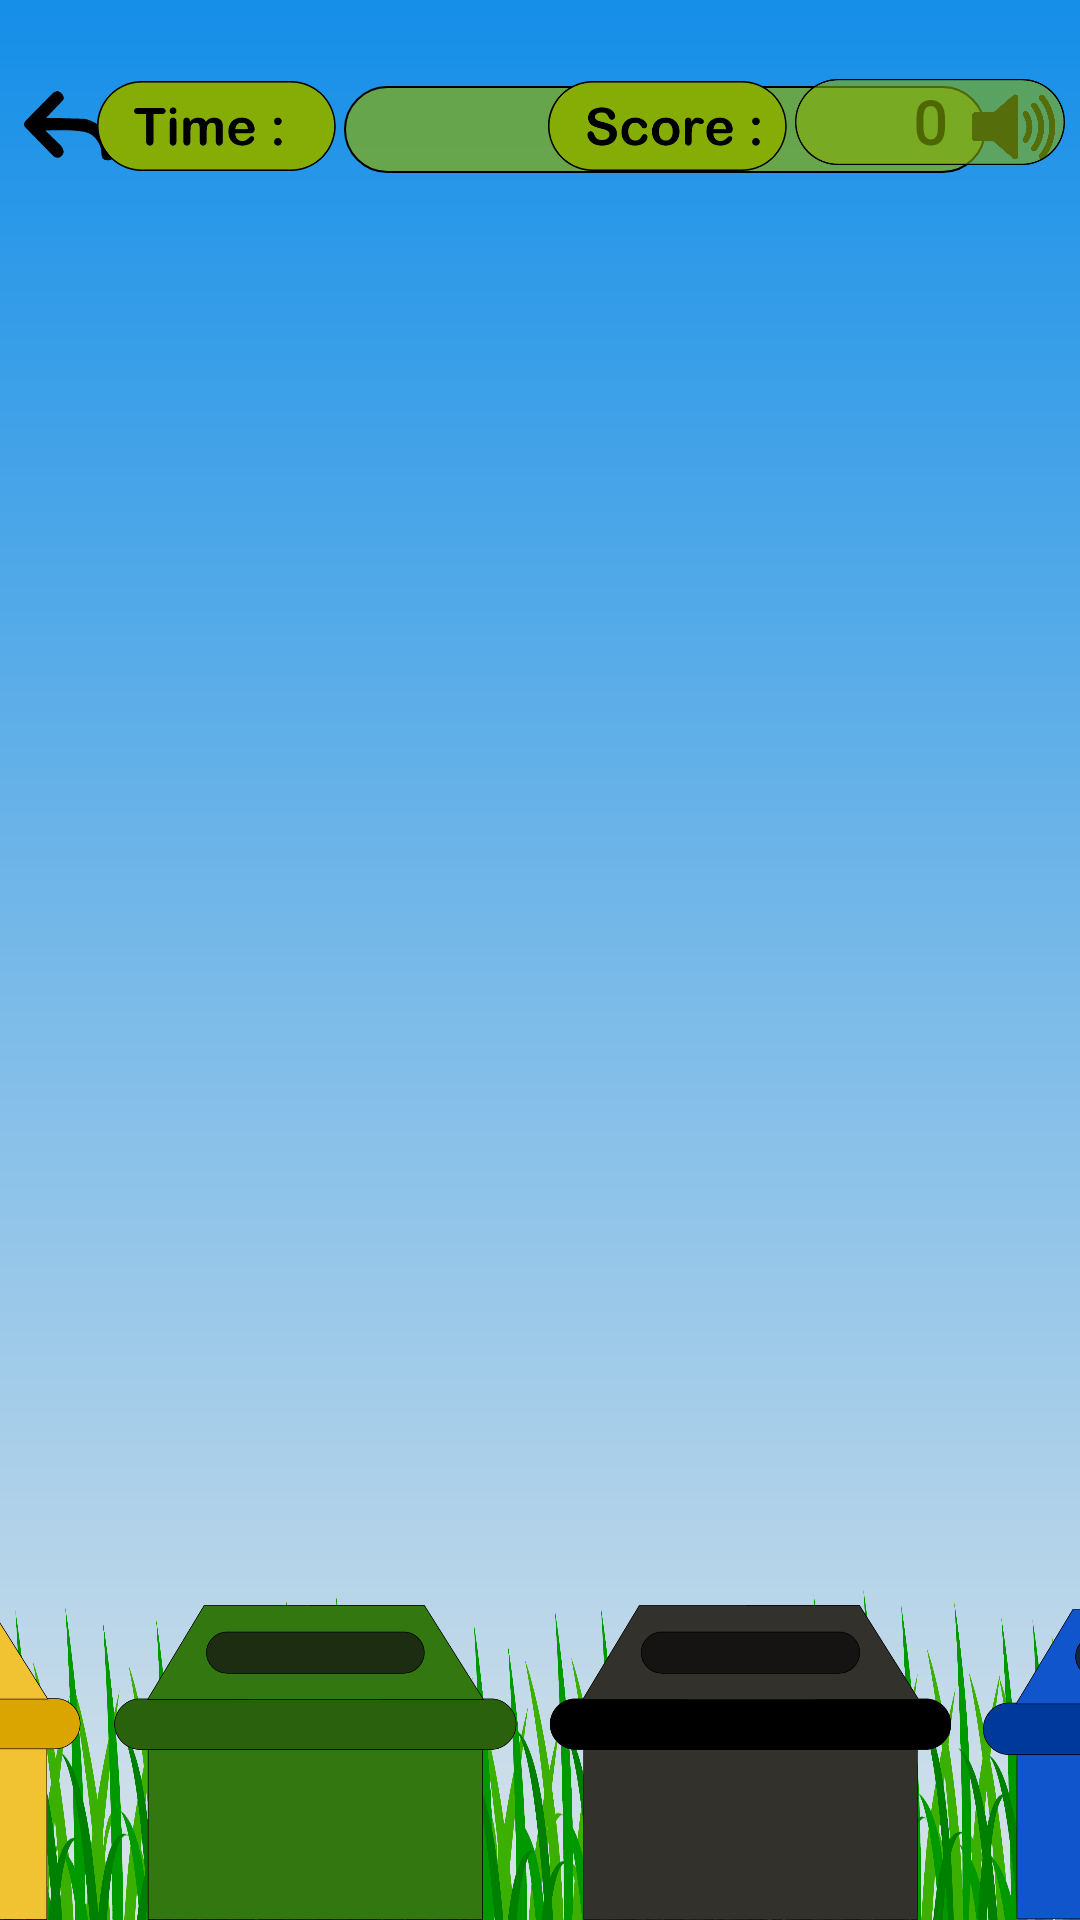

Icons on this 1080 x 1920 Android screen, each with its box as {"x1": x1, "y1": y1, "x2": x2, "y2": y2}:
backbtn: {"x1": 24, "y1": 91, "x2": 114, "y2": 161}
